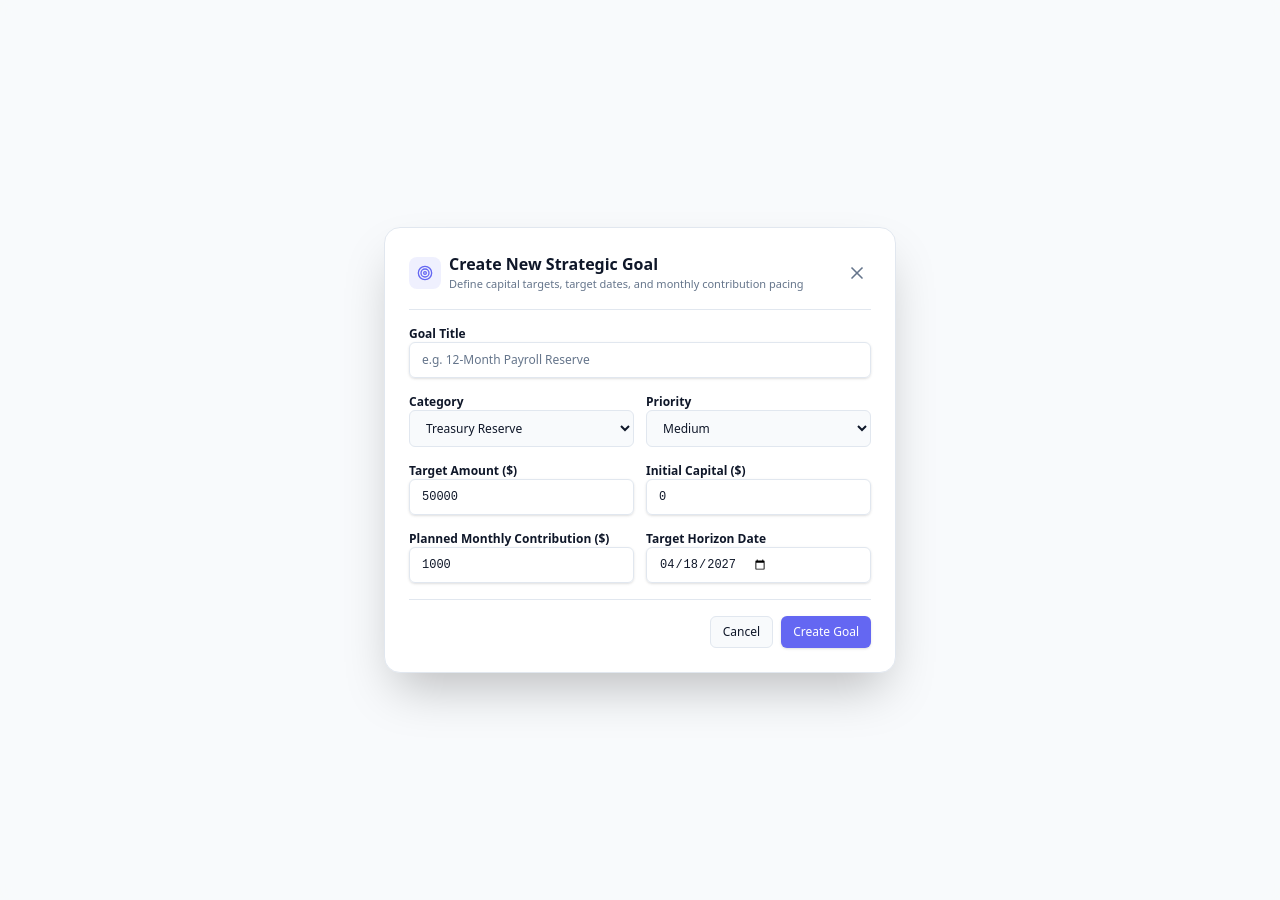
Test: GoalFormDialog Component › validates required title on submit
Click the button "Create Goal": (826, 632) [781,616,871,648]
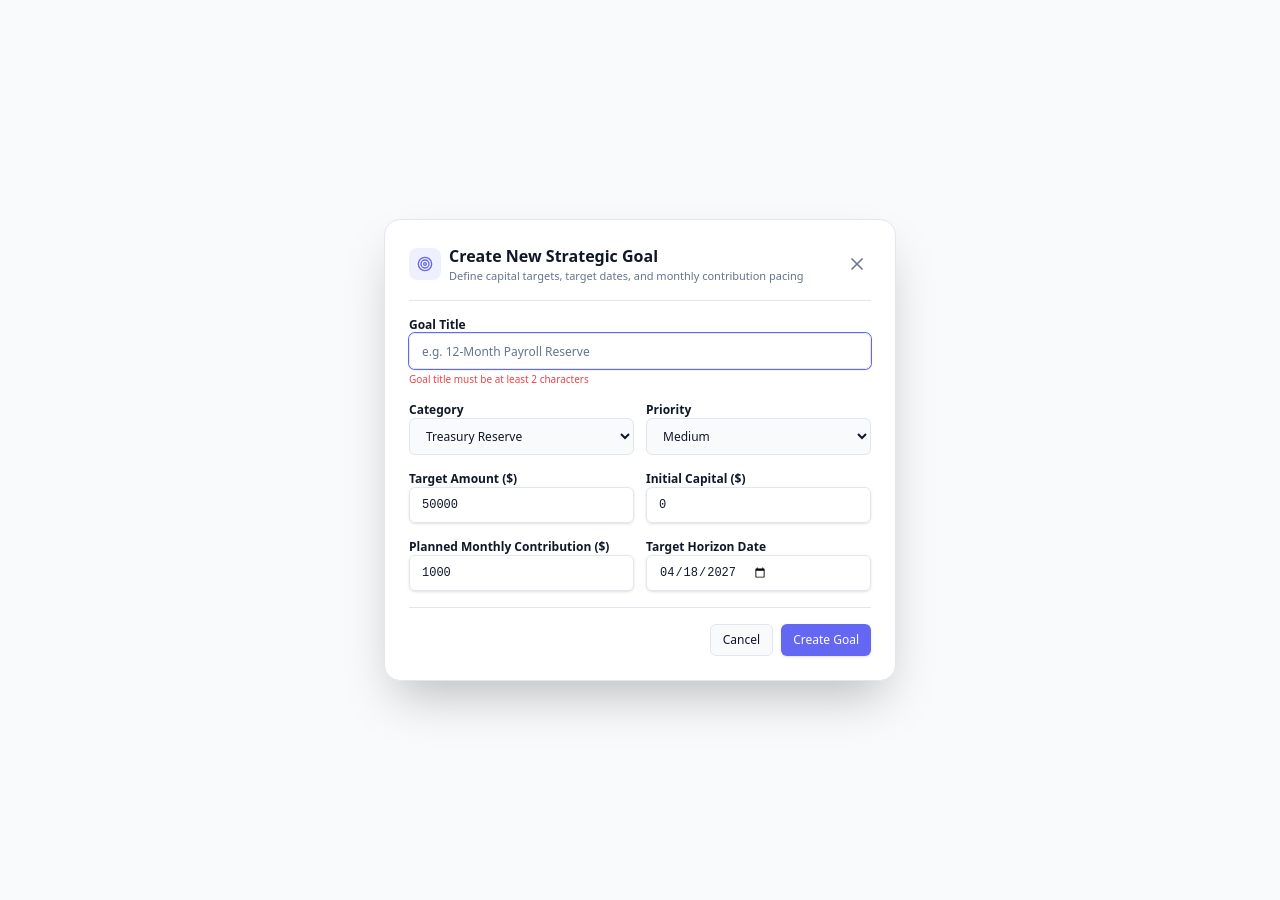
Expected: the text "Goal title must be at least 2 characters" is shown, [409,372,589,386]
